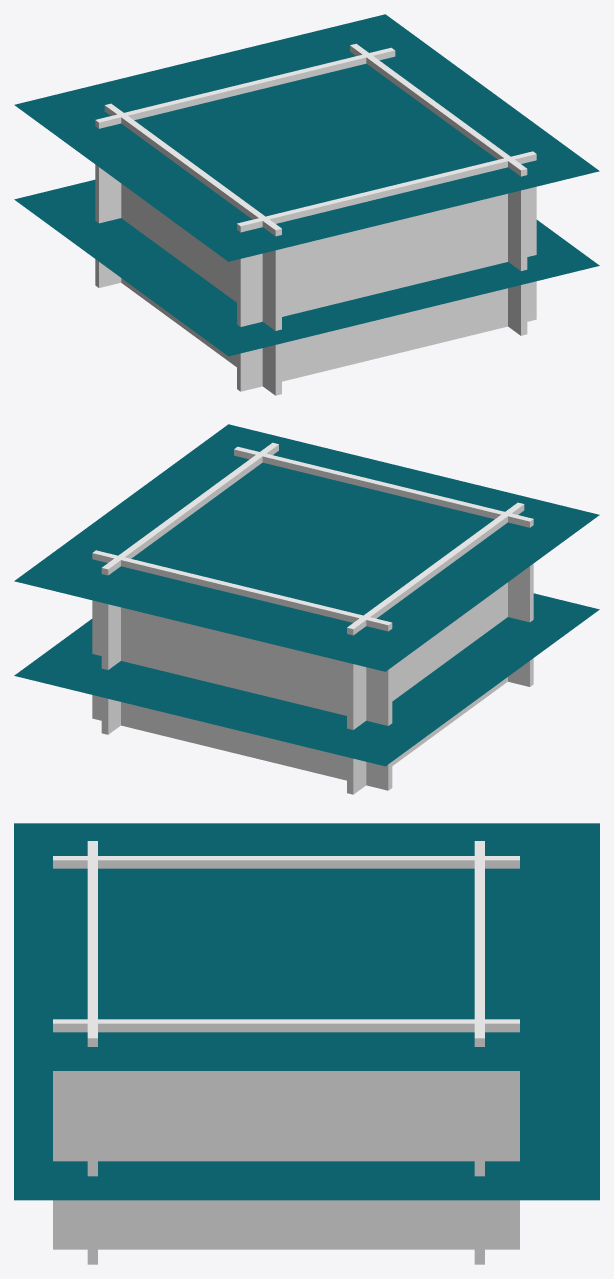
File: room3.glb
The picture shows the model from 3 angles, top to bottom: view 1: azimuth 30°, elevation 25°; view 2: azimuth 150°, elevation 25°; view 3: azimuth 270°, elevation 25°; orthographic projection. The views are drawn at different scales.
Visible parts, largest first — view 1: Plane.001_24, Cube.009_21, Plane_0, Cube.010_22, Cube_1, Cube.011_23; view 2: Plane.001_24, Plane_0, Cube_1, Cube.010_22, Cube.009_21, Cube.011_23; view 3: Plane.001_24, Cube.011_23, Plane_0, Cube.010_22, Cube.009_21, Cube_1.
Boxes of the visible parts, x1,y1,x2,y2 form: Plane.001_24: (14,14,599,261); Cube.009_21: (237,151,536,391); Plane_0: (14,179,599,356); Cube.010_22: (104,103,281,395); Cube_1: (95,47,395,287); Cube.011_23: (350,43,527,335); Plane.001_24: (14,424,599,671); Plane_0: (14,593,599,766); Cube_1: (92,550,392,790); Cube.010_22: (347,502,524,794); Cube.009_21: (234,446,533,686); Cube.011_23: (101,442,278,734); Plane.001_24: (14,823,599,1070); Cube.011_23: (53,1019,519,1249); Plane_0: (14,1071,599,1200); Cube.010_22: (53,856,519,868); Cube.009_21: (87,841,97,1264); Cube_1: (474,841,484,1264).
Size of the model in its own units: 58.65 by 24.96 by 58.65.
